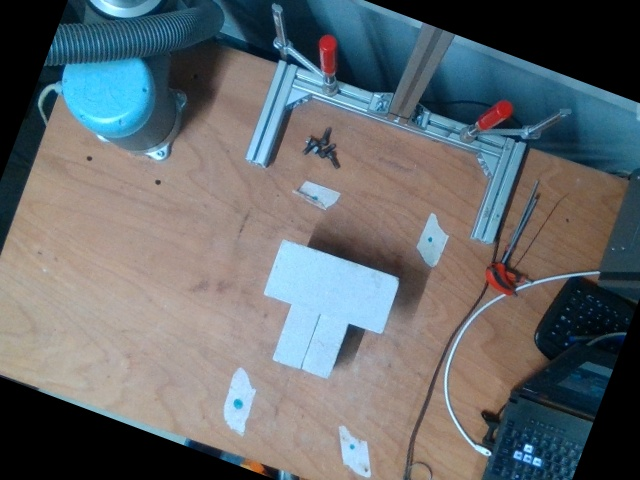brick: (265, 241, 401, 332)
